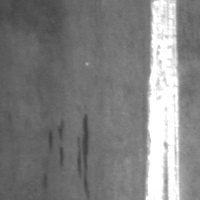inclusion: (72, 112, 93, 200), (46, 116, 67, 174)
scratches: (144, 1, 183, 200)
